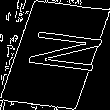N_E: (8, 30, 102, 80)
